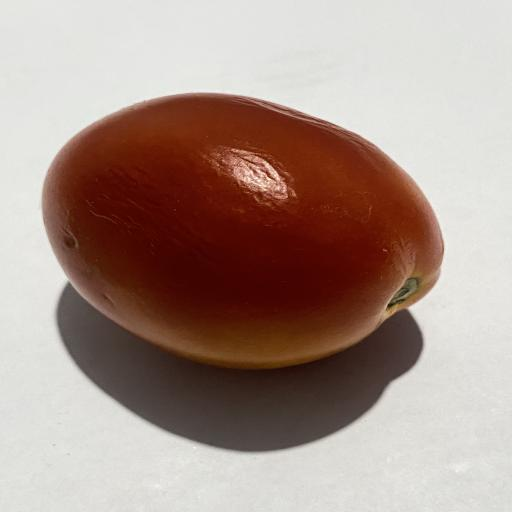spoiled: (42, 94, 443, 368)
